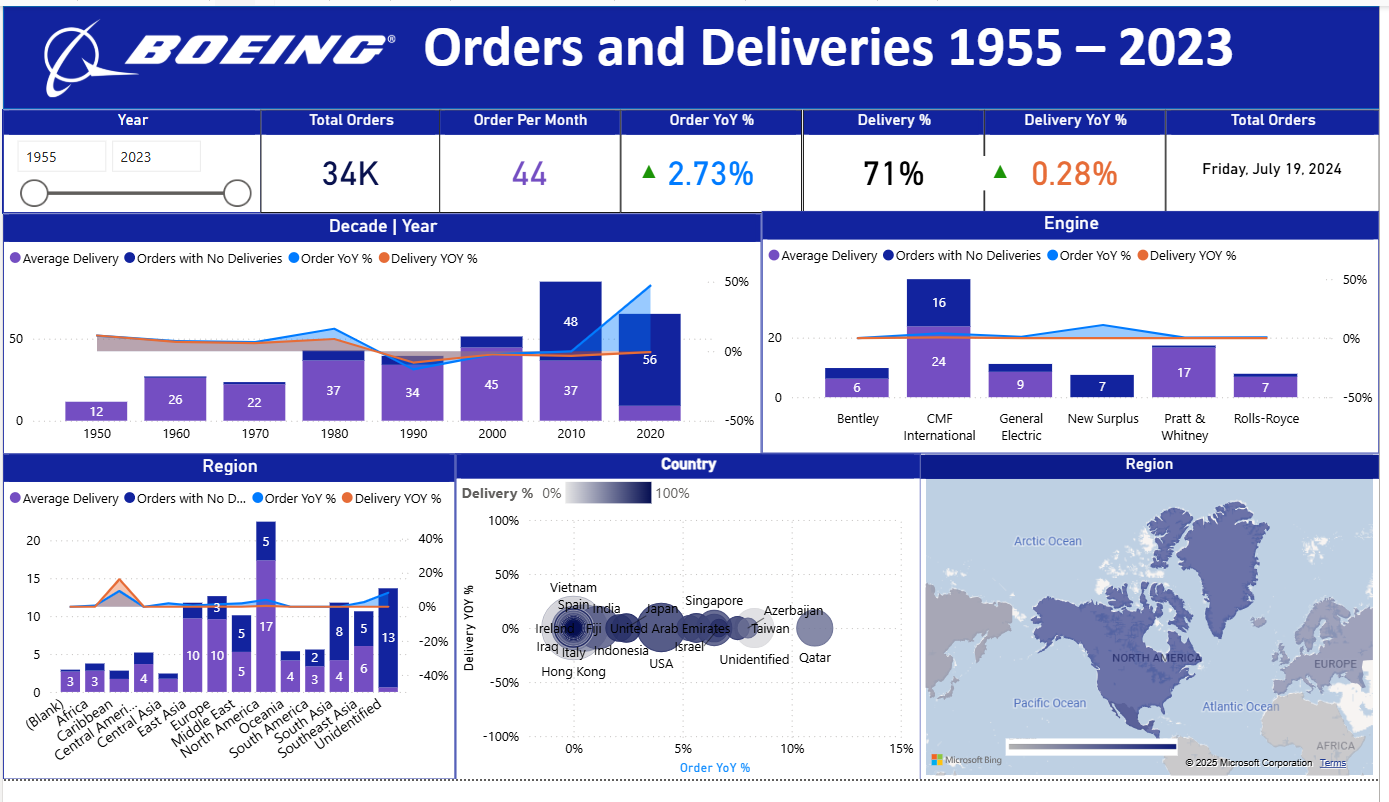

This screenshot's page, from the dashboard's own definition file:
{"tool":"powerbi","page":{"name":"Page 1","canvas":[1280,720],"ordinal":0},"visuals":[{"type":"shape","box":[0,0,1281,96],"z":0},{"type":"textbox","box":[272,0,992,96],"z":1000},{"type":"image","box":[34,0,336,96],"z":2000},{"type":"slicer","title":"Year","fields":{"Values":["Calendar.Year"]},"box":[0,96,240,96],"z":4000},{"type":"card","title":"Total Orders","fields":{"Values":["Measure.Total Orders"]},"box":[239,96,168,96],"z":5000},{"type":"card","title":"Order Per Month","fields":{"Values":["Measure.Orders Per Month"]},"box":[406.2,96.1,168.8,96.1],"z":6000},{"type":"card","title":"Order YoY %","fields":{"Values":["Measure.Order YoY %"]},"box":[575,96.1,168.8,96.1],"z":7000},{"type":"card","title":"Delivery %","fields":{"Values":["Measure.Delivery %"]},"box":[743.7,96.1,168.8,96.1],"z":8000},{"type":"card","title":"Delivery YoY %","fields":{"Values":["Measure.Delivery YOY %"]},"box":[912.5,96.1,168.8,96.1],"z":9000},{"type":"card","title":"Total Orders","fields":{"Values":["Min(Data Refresh.Date)"]},"box":[1081.1,96.7,199.2,95.3],"z":10000},{"type":"card","fields":{"Values":["Measure..Arrow YOY"]},"box":[585,140,32,32],"z":11000},{"type":"card","fields":{"Values":["Measure..Arrow YOY"]},"box":[912,140,32,32],"z":12000},{"type":"lineStackedColumnComboChart","title":"Decade | Year","fields":{"Category":["Calendar.Year (groups)"],"Y":["Measure.Average Delivery","Measure.Orders with No Deliveries"],"Y2":["Measure.Order YoY %","Measure.Delivery YOY %"]},"box":[0,192.5,705.5,224.2],"z":13000},{"type":"lineStackedColumnComboChart","title":"Engine","fields":{"Y":["Measure.Average Delivery","Measure.Orders with No Deliveries"],"Y2":["Measure.Order YoY %","Measure.Delivery YOY %"],"Category":["OrdersandDeliveries.Engine","OrdersandDeliveries.Model Series"]},"box":[705.5,191.1,574.8,225.6],"z":14000},{"type":"lineStackedColumnComboChart","title":"Region","fields":{"Y":["Measure.Average Delivery","Measure.Orders with No Deliveries"],"Y2":["Measure.Order YoY %","Measure.Delivery YOY %"],"Category":["OrdersandDeliveries.Country","OrdersandDeliveries.Region"]},"box":[0,416.7,421,303.2],"z":15000},{"type":"scatterChart","title":"Country","fields":{"Category":["OrdersandDeliveries.Country"],"X":["Measure.Order YoY %"],"Y":["Measure.Delivery YOY %"],"Size":["Measure.Orders Per Month"]},"box":[421,416.7,432.5,304.6],"z":16000},{"type":"filledMap","title":"Region","fields":{"Category":["OrdersandDeliveries.Region"]},"box":[854,417,426,303],"z":17000},{"type":"image","box":[928,658,170,62],"z":18000}]}

Visuals, with their boxes in screenshot pixels (x1, y1, x2, y2), scaled from the page's 1280x720 canvas onto the 1389x802 screenshot:
shape: {"x1": 0, "y1": 0, "x2": 1388, "y2": 107}
textbox: {"x1": 295, "y1": 0, "x2": 1372, "y2": 107}
image: {"x1": 37, "y1": 0, "x2": 402, "y2": 107}
"Year" slicer: {"x1": 0, "y1": 107, "x2": 260, "y2": 214}
"Total Orders" card: {"x1": 259, "y1": 107, "x2": 442, "y2": 214}
"Order Per Month" card: {"x1": 441, "y1": 107, "x2": 624, "y2": 214}
"Order YoY %" card: {"x1": 624, "y1": 107, "x2": 807, "y2": 214}
"Delivery %" card: {"x1": 807, "y1": 107, "x2": 990, "y2": 214}
"Delivery YoY %" card: {"x1": 990, "y1": 107, "x2": 1173, "y2": 214}
"Total Orders" card: {"x1": 1173, "y1": 108, "x2": 1388, "y2": 214}
card - Measure..Arrow YOY: {"x1": 635, "y1": 156, "x2": 670, "y2": 192}
card - Measure..Arrow YOY: {"x1": 990, "y1": 156, "x2": 1024, "y2": 192}
"Decade | Year" lineStackedColumnComboChart: {"x1": 0, "y1": 214, "x2": 766, "y2": 464}
"Engine" lineStackedColumnComboChart: {"x1": 766, "y1": 213, "x2": 1388, "y2": 464}
"Region" lineStackedColumnComboChart: {"x1": 0, "y1": 464, "x2": 457, "y2": 801}
"Country" scatterChart: {"x1": 457, "y1": 464, "x2": 926, "y2": 801}
"Region" filledMap: {"x1": 927, "y1": 464, "x2": 1388, "y2": 801}
image: {"x1": 1007, "y1": 733, "x2": 1192, "y2": 801}
